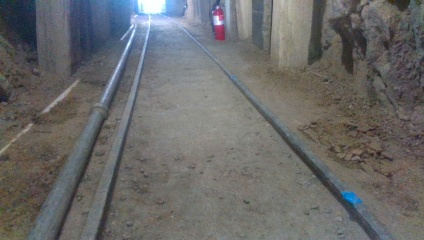fire_extinguisher: (210, 0, 226, 40)
